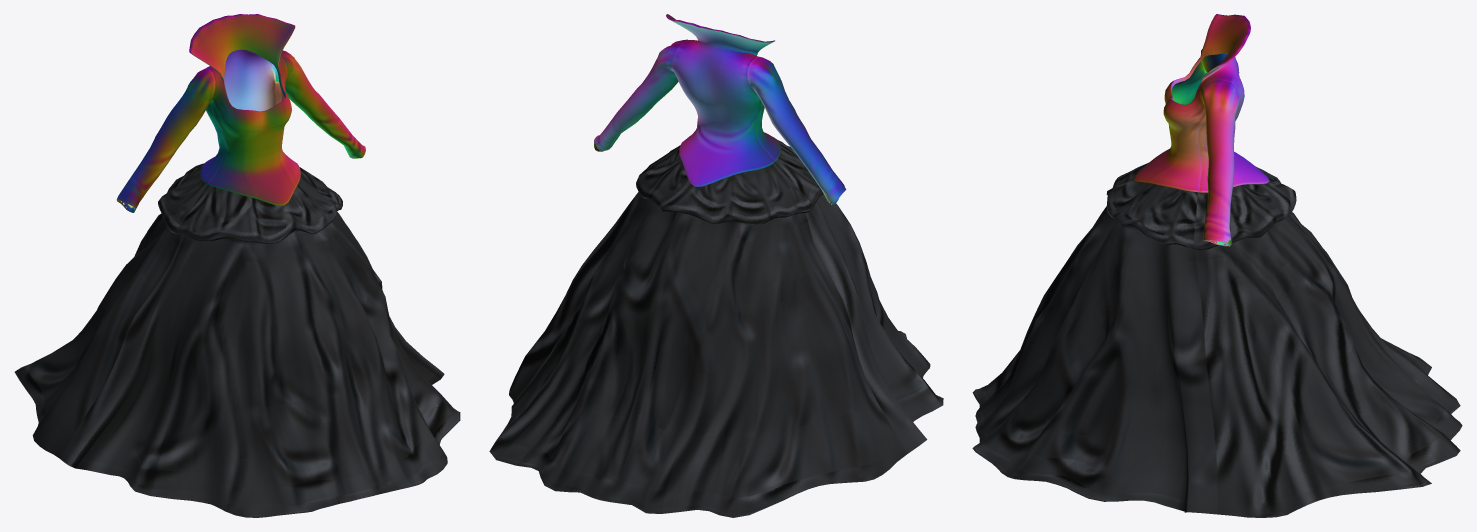
Rendered from female-gown.glb.
3 views of the same model, side by side, from view 1: azimuth 30°, elevation 25°; view 2: azimuth 150°, elevation 25°; view 3: azimuth 270°, elevation 25° (orthographic). The views are drawn at different scales.
Visible parts, largest first — view 1: Object_2, Object_3; view 2: Object_2, Object_3; view 3: Object_2, Object_3.
Boxes of the visible parts, box(x1,y1,x2,y2) form: Object_2: box(14, 163, 460, 517); Object_3: box(116, 14, 365, 212); Object_2: box(489, 137, 943, 517); Object_3: box(594, 14, 846, 204); Object_2: box(972, 163, 1462, 517); Object_3: box(1133, 14, 1269, 246).
Bounding box in the file's own units: 2.69 × 2.69 × 2.97.
Materials: 2 (2 with a texture image).
